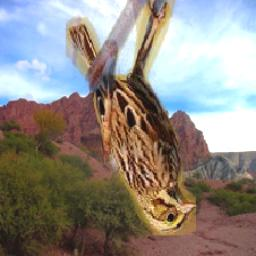Sparrow: (65, 0, 195, 235)
